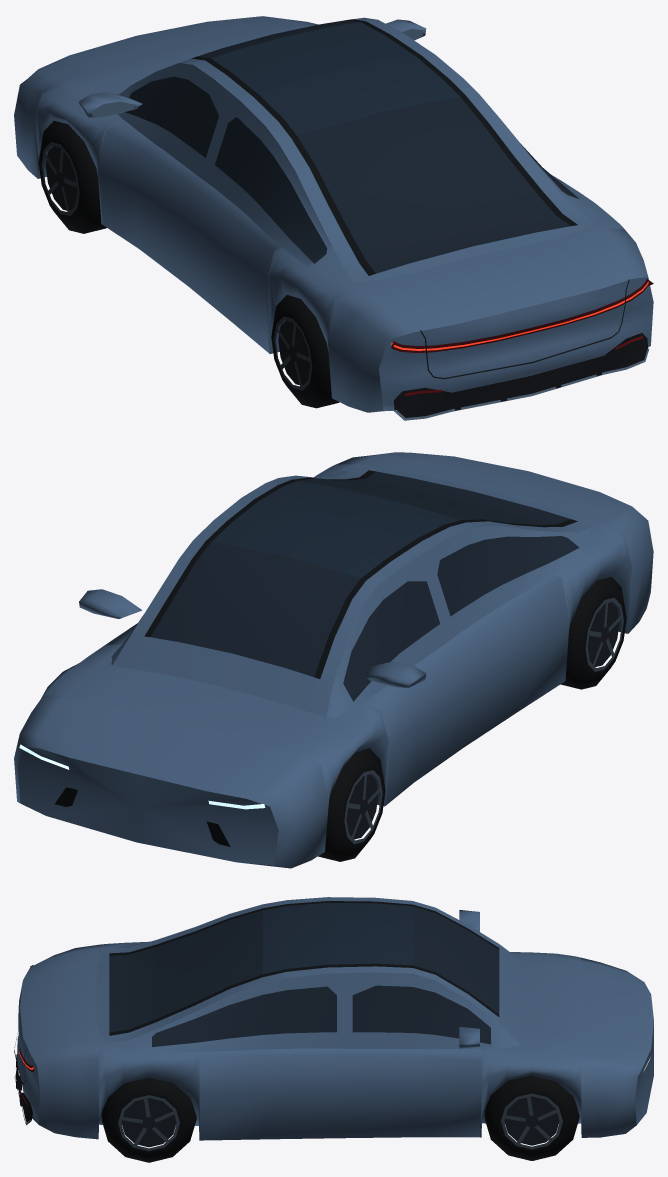
Rendered from cupfight_car.glb.
The picture shows the model from 3 angles, top to bottom: view 1: azimuth 30°, elevation 25°; view 2: azimuth 150°, elevation 25°; view 3: azimuth 270°, elevation 25°; orthographic projection. The views are drawn at different scales.
Visible parts, largest first — view 1: Steel blue body, Tapered rear glass, Rear fascia, Panoramic roof, Left side windows, Roof rails and cabin frame, Left side window frame, Lower diffuser and four fins, Glazing border, Front left tire, Rear left tire, Continuous smoked rear lens (+8 smaller); view 2: Steel blue body, Front windshield, Front fascia, Roof rails and cabin frame, Panoramic roof, Left side windows, Left side window frame, Tapered rear glass, Rear left tire, Front left tire, Glazing border, Front left wheel center (+5 smaller); view 3: Steel blue body, Right side windows, Tapered rear glass, Right side window frame, Panoramic roof, Roof rails and cabin frame, Front windshield, Front right tire, Rear right tire, Glazing border, Front right wheel center, Rear right wheel center (+5 smaller).
Part boxes in pixels (<box>): Steel blue body: <box>14,16,648,412</box>; Tapered rear glass: <box>297,96,570,273</box>; Rear fascia: <box>379,277,653,411</box>; Panoramic roof: <box>211,22,459,136</box>; Left side windows: <box>124,76,327,263</box>; Roof rails and cabin frame: <box>179,17,595,282</box>; Left side window frame: <box>117,63,353,282</box>; Lower diffuser and four fins: <box>393,333,647,417</box>; Glazing border: <box>191,19,577,275</box>; Front left tire: <box>38,120,106,233</box>; Rear left tire: <box>271,295,339,408</box>; Continuous smoked rear lens: <box>391,279,653,352</box>; Steel blue body: <box>14,452,653,868</box>; Front windshield: <box>150,542,360,676</box>; Front fascia: <box>18,746,278,865</box>; Roof rails and cabin frame: <box>113,467,594,717</box>; Panoramic roof: <box>211,480,459,578</box>; Left side windows: <box>343,536,579,701</box>; Left side window frame: <box>326,526,596,717</box>; Tapered rear glass: <box>298,471,570,524</box>; Rear left tire: <box>560,577,626,689</box>; Front left tire: <box>318,748,385,861</box>; Glazing border: <box>144,470,577,678</box>; Front left wheel center: <box>346,774,378,839</box>; Steel blue body: <box>20,941,653,1140</box>; Right side windows: <box>152,985,490,1047</box>; Tapered rear glass: <box>109,910,262,1032</box>; Right side window frame: <box>107,972,519,1052</box>; Panoramic roof: <box>262,902,412,974</box>; Roof rails and cabin frame: <box>96,897,520,1043</box>; Front windshield: <box>413,906,499,1013</box>; Front right tire: <box>484,1076,579,1160</box>; Rear right tire: <box>101,1077,196,1162</box>; Glazing border: <box>109,901,499,1035</box>; Front right wheel center: <box>504,1096,559,1145</box>; Rear right wheel center: <box>121,1098,176,1147</box>.
Size of the model in its own units: 2.23 by 1.36 by 4.51.
